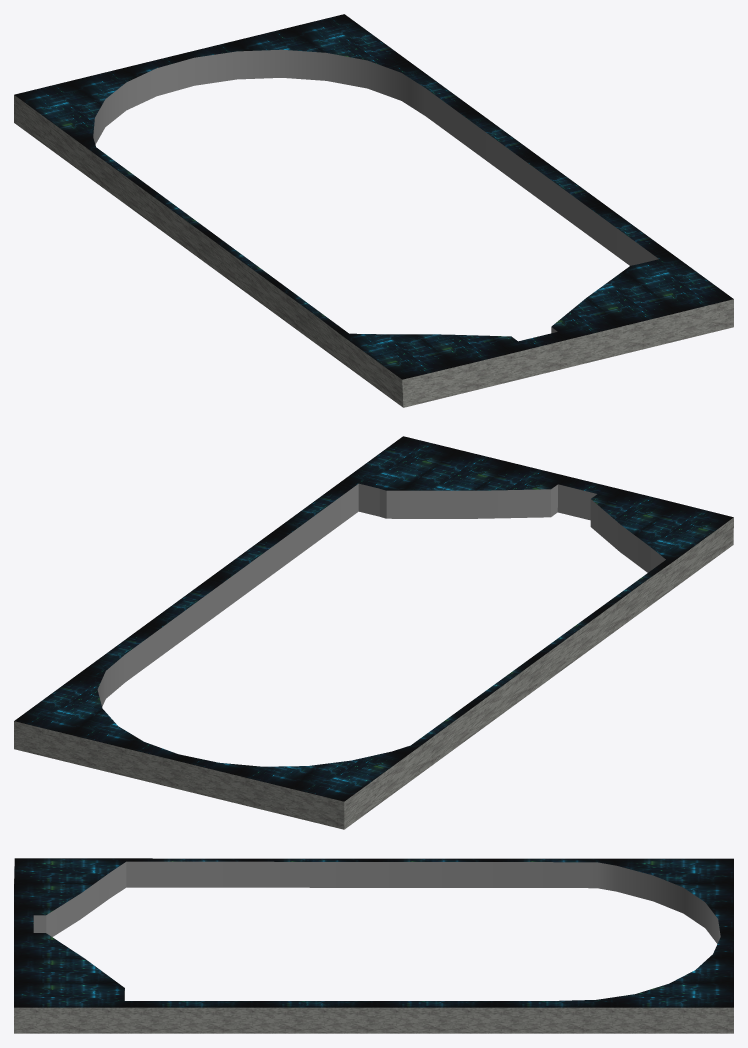
File: Flipperkast layout.FBX
The picture shows the model from 3 angles, top to bottom: view 1: azimuth 30°, elevation 25°; view 2: azimuth 150°, elevation 25°; view 3: azimuth 270°, elevation 25°; orthographic projection. The views are drawn at different scales.
Parts seen in each view (by area): view 1: Box001; view 2: Box001; view 3: Box001.
Boxes of the visible parts, bbox=[...] form: Box001: bbox=[14, 14, 733, 407]; Box001: bbox=[14, 436, 733, 829]; Box001: bbox=[14, 858, 733, 1033].
Bounding box in the file's own units: 53.89 × 4.36 × 110.
Materials: 3 (2 with a texture image).
